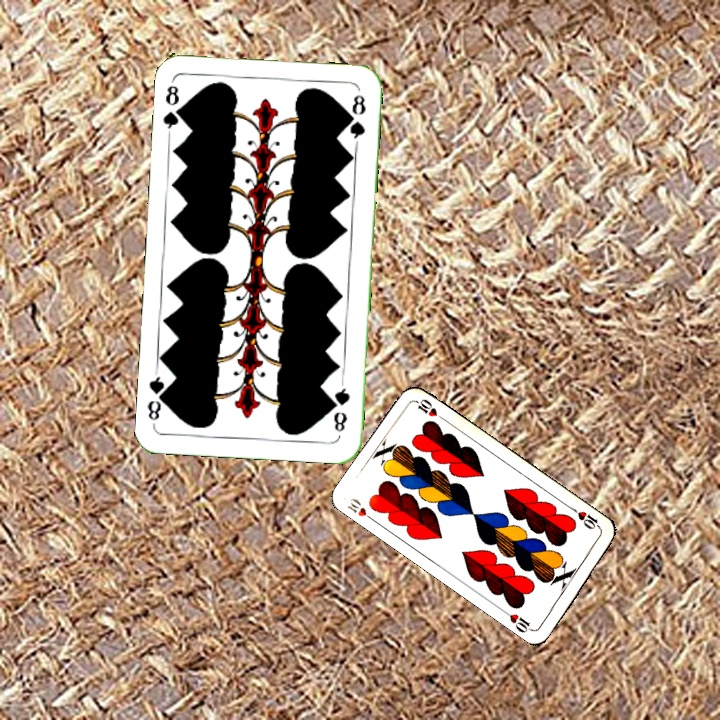G8: (159, 78, 187, 137), (329, 378, 353, 435)
H10: (343, 494, 379, 525), (568, 504, 604, 533)
